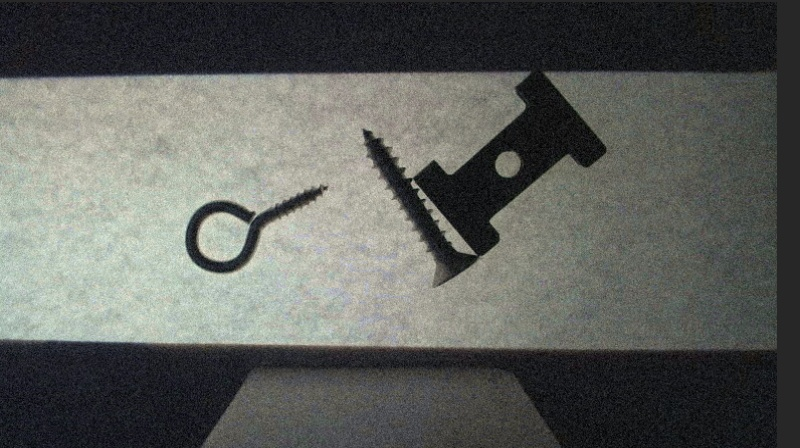O001: (183, 181, 330, 273)
O002: (413, 69, 608, 259)
S001: (361, 127, 480, 287)
